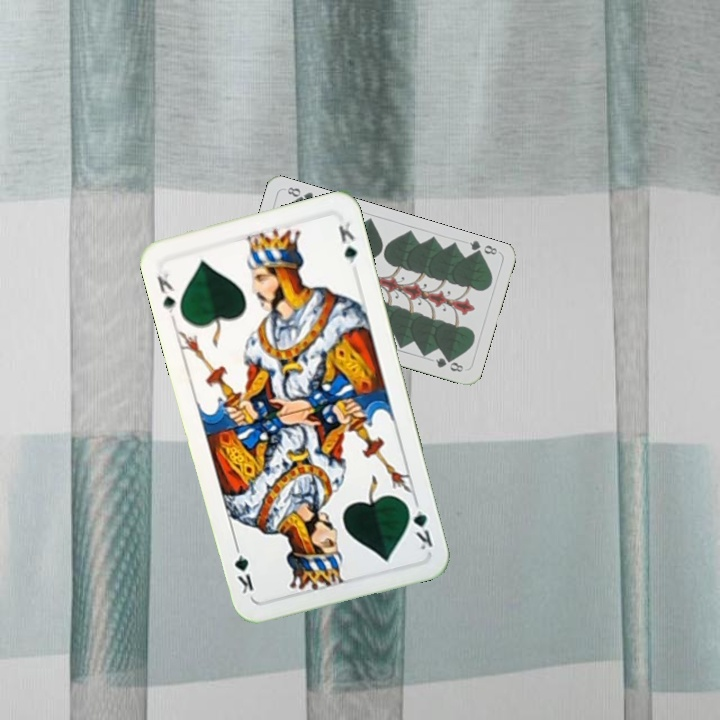G8: (465, 237, 501, 260)
GK: (402, 495, 436, 553), (153, 269, 178, 322)
